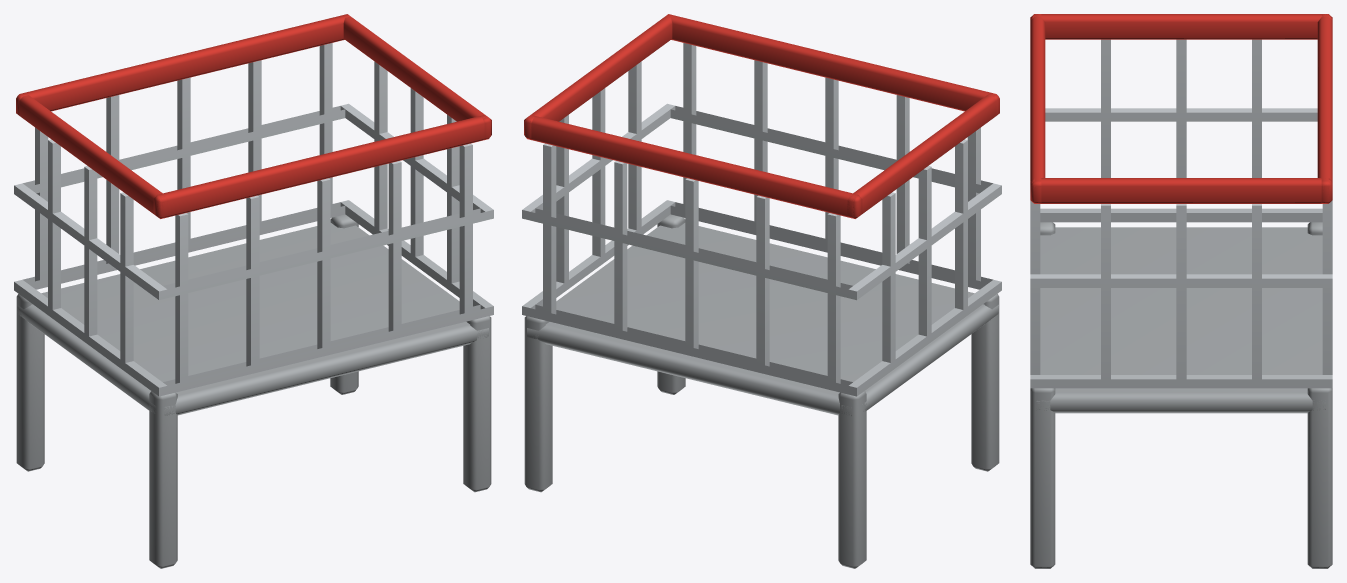
File: DumpBin_Wire_01.glb
The picture shows the model from 3 angles, left to right: view 1: azimuth 30°, elevation 25°; view 2: azimuth 150°, elevation 25°; view 3: azimuth 270°, elevation 25°; orthographic projection. The views are drawn at different scales.
Visible parts, largest first — view 1: SM_DumpBin_Wire_01; view 2: SM_DumpBin_Wire_01; view 3: SM_DumpBin_Wire_01.
Boxes of the visible parts, x1,y1,x2,y2 form: SM_DumpBin_Wire_01: (14,14,493,568); SM_DumpBin_Wire_01: (522,14,1001,568); SM_DumpBin_Wire_01: (1030,14,1332,568).
Bounding box in the file's own units: 0.8 × 0.85 × 0.6.
Materials: 1 (1 with a texture image).
